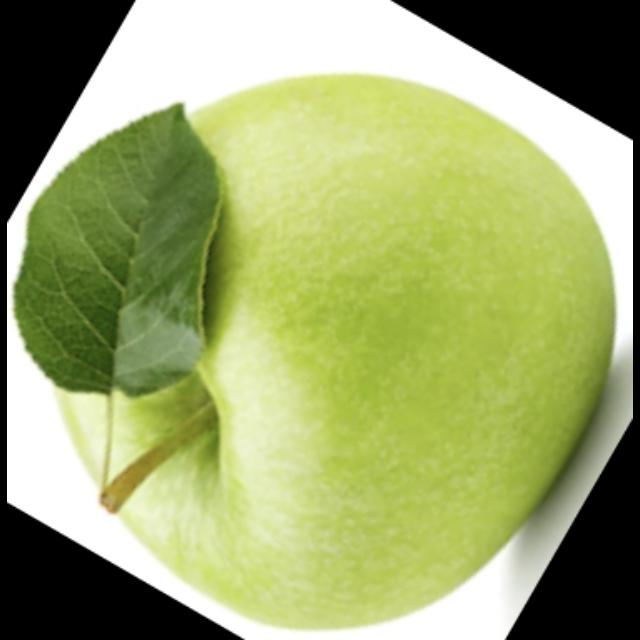Apel Segar: (65, 75, 617, 598)
